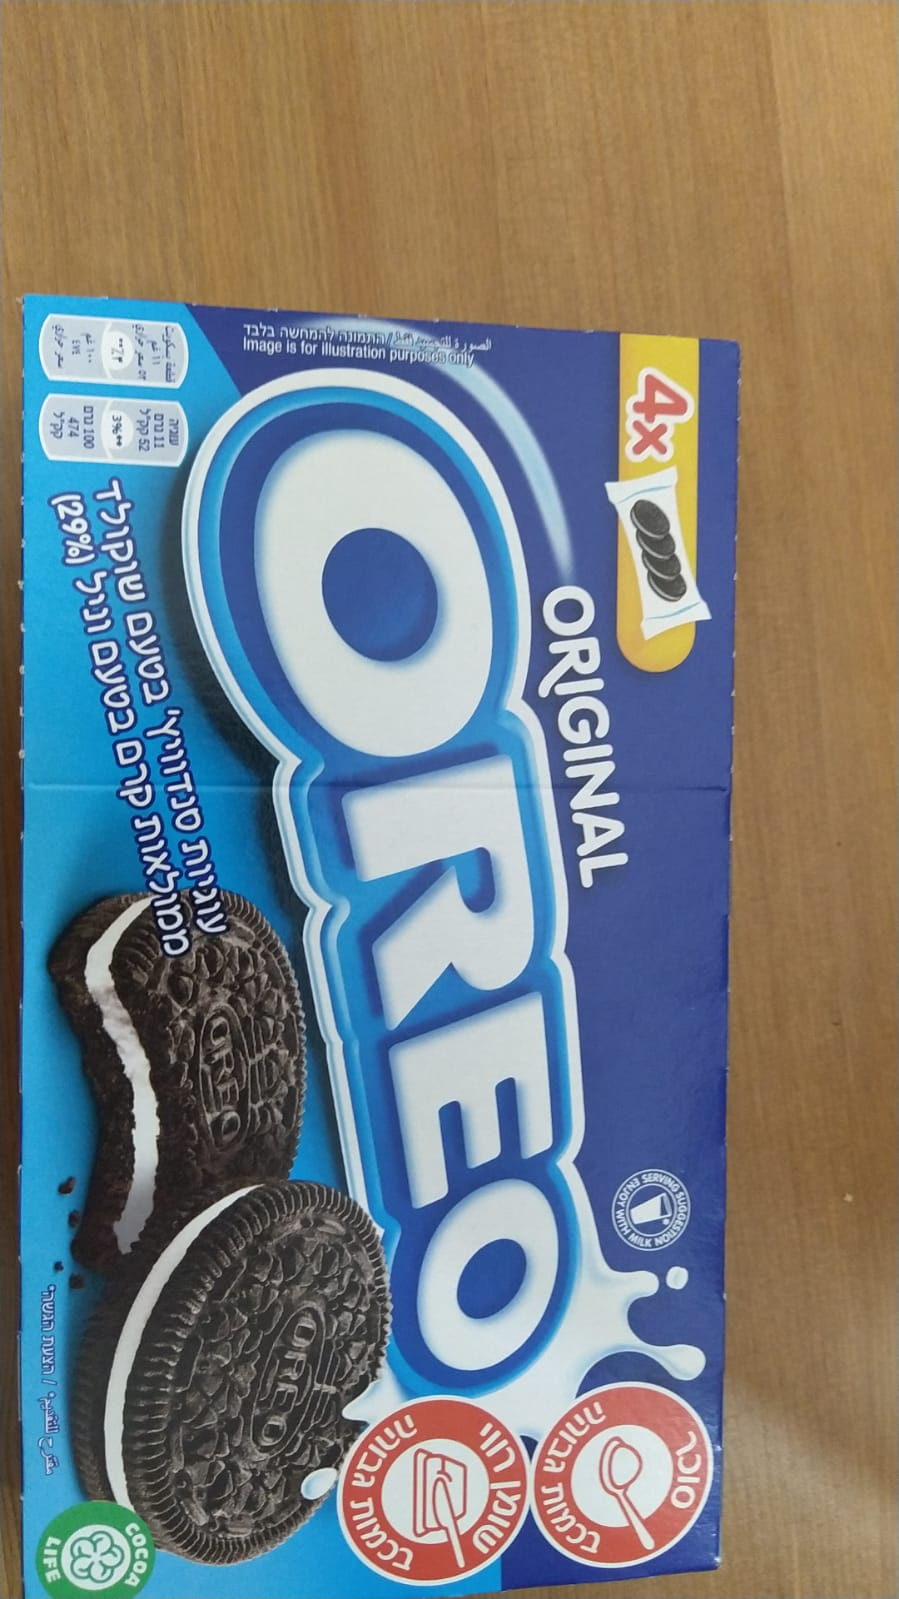fat: (338, 1397, 535, 1584)
sugar: (530, 1379, 718, 1572)
